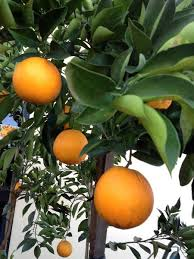orange: (96, 164, 155, 227), (14, 56, 62, 106), (52, 126, 86, 163), (55, 237, 74, 257)
